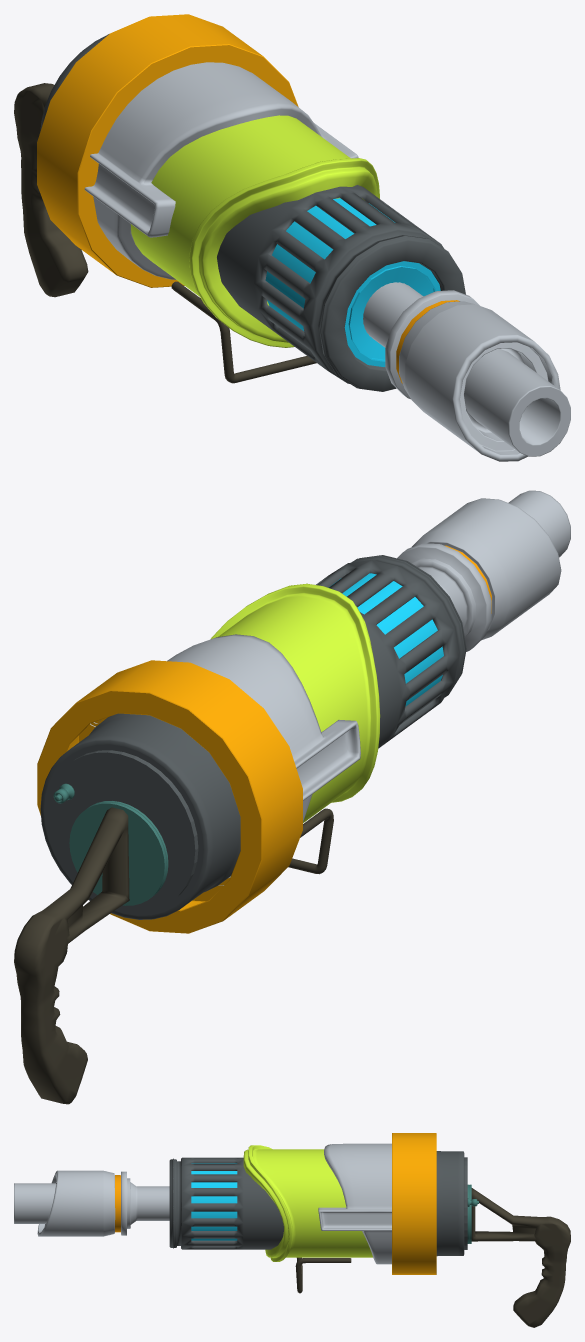
The model's file is future_gun2.fbx.
The picture shows the model from 3 angles, top to bottom: view 1: azimuth 30°, elevation 25°; view 2: azimuth 150°, elevation 25°; view 3: azimuth 270°, elevation 25°; orthographic projection. The views are drawn at different scales.
Parts seen in each view (by area): view 1: future_gun2; view 2: future_gun2; view 3: future_gun2.
Part boxes in pixels (bbox=[...]): future_gun2: bbox=[14, 14, 570, 461]; future_gun2: bbox=[14, 490, 570, 1104]; future_gun2: bbox=[14, 1133, 570, 1327].
Size of the model in its own units: 14.03 by 20.48 by 55.66.
Materials: 1 (1 with a texture image).
